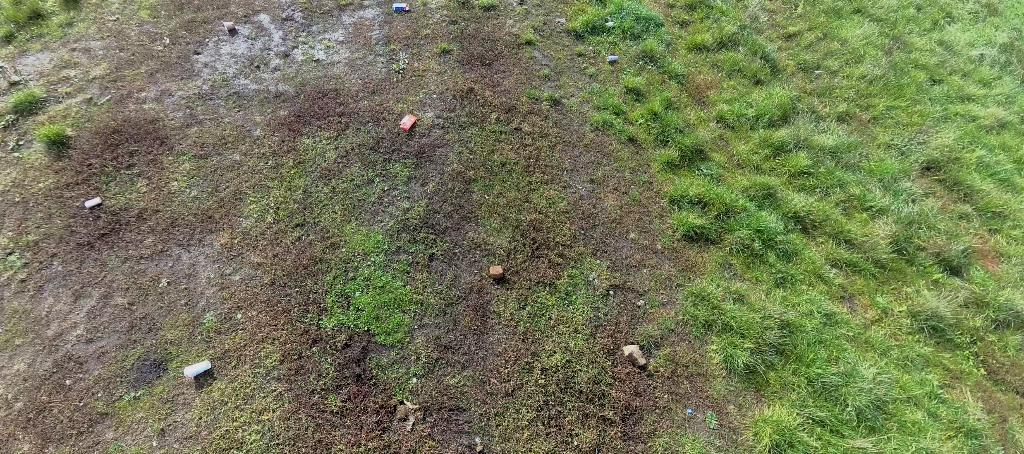garbage: (180, 359, 215, 381), (624, 341, 648, 373), (622, 343, 647, 368), (183, 360, 212, 380), (398, 114, 419, 131), (84, 196, 103, 209), (489, 264, 504, 279), (391, 3, 409, 11), (222, 22, 237, 31), (606, 55, 619, 61), (605, 22, 614, 26), (685, 408, 692, 413)
